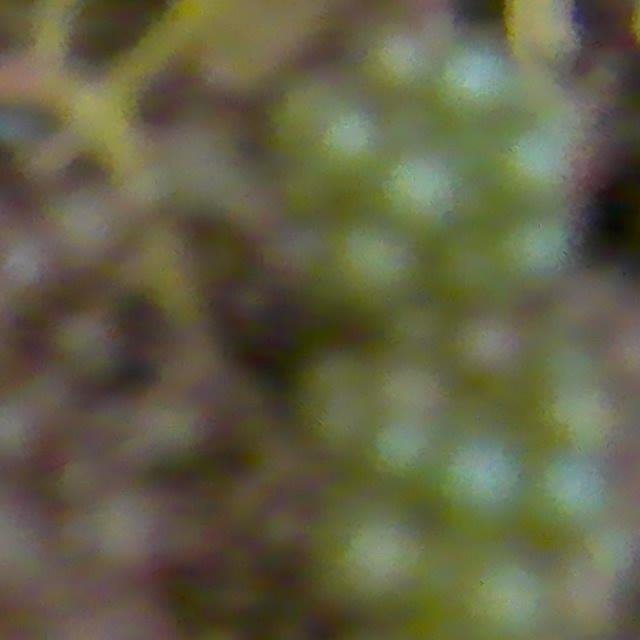SeaGrape: (304, 501, 423, 613), (491, 120, 583, 215), (434, 439, 524, 535), (430, 226, 521, 314), (451, 553, 542, 640), (428, 39, 508, 133), (295, 355, 376, 446), (520, 455, 606, 539), (528, 387, 612, 463), (327, 226, 408, 302), (359, 20, 437, 93), (451, 307, 516, 391), (270, 75, 340, 153), (383, 158, 459, 228), (502, 218, 568, 292), (367, 415, 432, 488), (318, 120, 378, 193), (538, 331, 600, 393), (384, 371, 453, 422), (387, 305, 444, 359)
